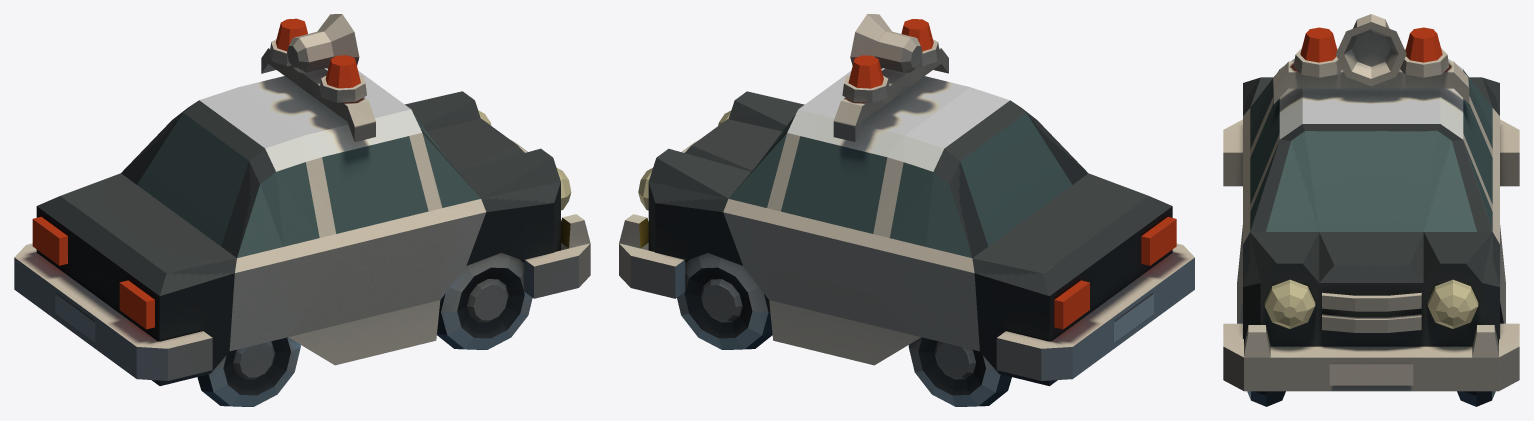
The model's file is Police.glb.
3 views of the same model, side by side, from view 1: azimuth 30°, elevation 25°; view 2: azimuth 150°, elevation 25°; view 3: azimuth 270°, elevation 25° (orthographic). The views are drawn at different scales.
Visible parts, largest first — view 1: node-0; view 2: node-0; view 3: node-0.
Part boxes in pixels (box(x1,y1,x2,y2)): node-0: box(14, 14, 590, 406); node-0: box(619, 14, 1194, 406); node-0: box(1223, 14, 1519, 406).
Bounding box in the file's own units: 2.35 × 1.58 × 1.27.
Materials: 1 (1 with a texture image).
